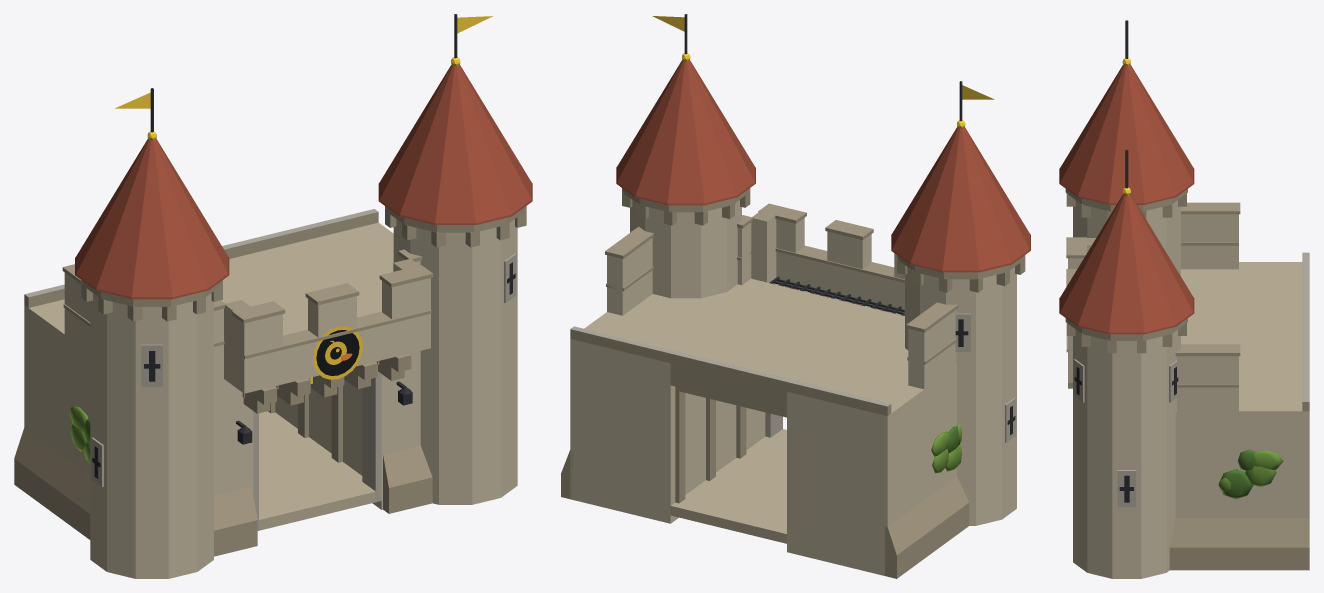
Rendered from castle_gatehouse.glb.
3 renders of one model, left to right at view 1: azimuth 30°, elevation 25°; view 2: azimuth 150°, elevation 25°; view 3: azimuth 270°, elevation 25°, orthographic. The views are drawn at different scales.
Visible parts, largest first — view 1: LOD0; view 2: LOD0; view 3: LOD0.
Part boxes in pixels (bbox=[...]): LOD0: bbox=[14, 14, 532, 578]; LOD0: bbox=[561, 14, 1030, 578]; LOD0: bbox=[1059, 20, 1309, 578].
Size of the model in its own units: 14.98 by 15.2 by 8.49.
Materials: 1 (1 with a texture image).
